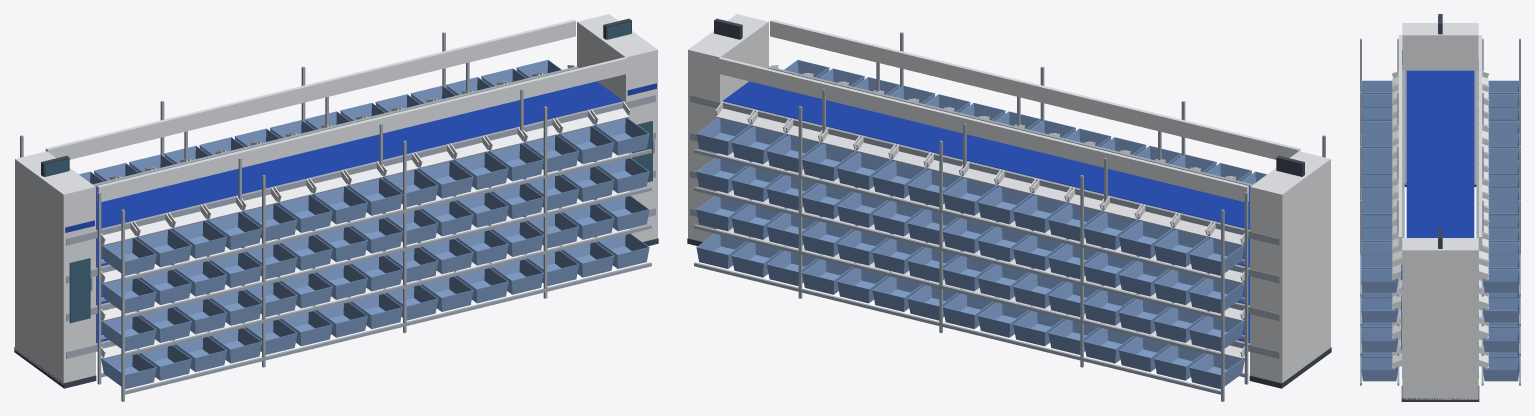
The model's file is SM_MPR_SorterCAD120_LOD1.fbx.
3 views of the same model, side by side, from view 1: azimuth 30°, elevation 25°; view 2: azimuth 150°, elevation 25°; view 3: azimuth 270°, elevation 25° (orthographic). The views are drawn at different scales.
Parts seen in each view (by area): view 1: SM_MPR_SorterCAD120_LOD1; view 2: SM_MPR_SorterCAD120_LOD1; view 3: SM_MPR_SorterCAD120_LOD1.
Boxes of the visible parts, box(x1,y1,x2,y2) form: SM_MPR_SorterCAD120_LOD1: box(14, 14, 658, 401); SM_MPR_SorterCAD120_LOD1: box(687, 14, 1331, 401); SM_MPR_SorterCAD120_LOD1: box(1360, 14, 1520, 401).
Bounding box in the file's own units: 732 × 219 × 245.
